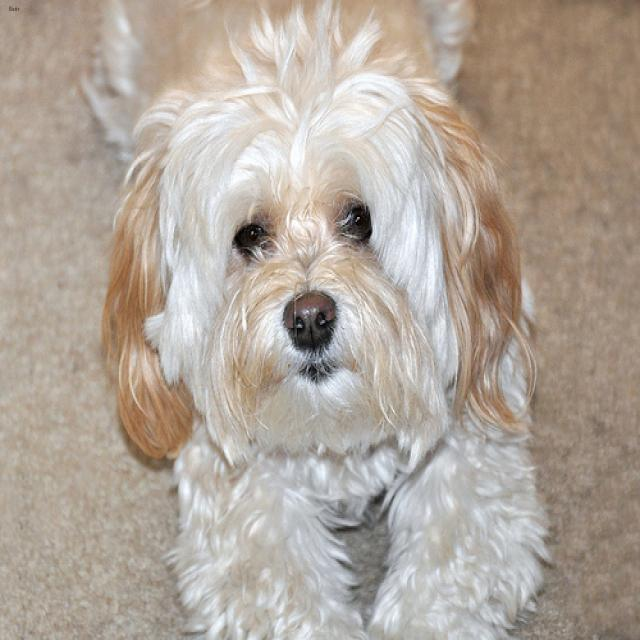dog: (103, 51, 520, 454)
